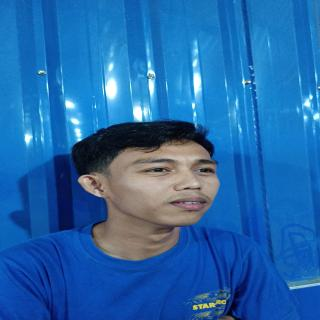Sedih: (103, 132, 238, 232)
